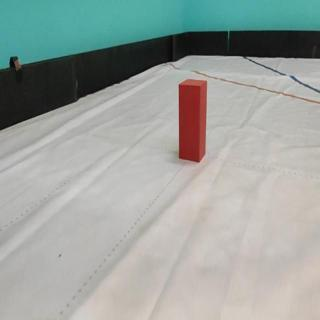redbox: (177, 76, 208, 162)
